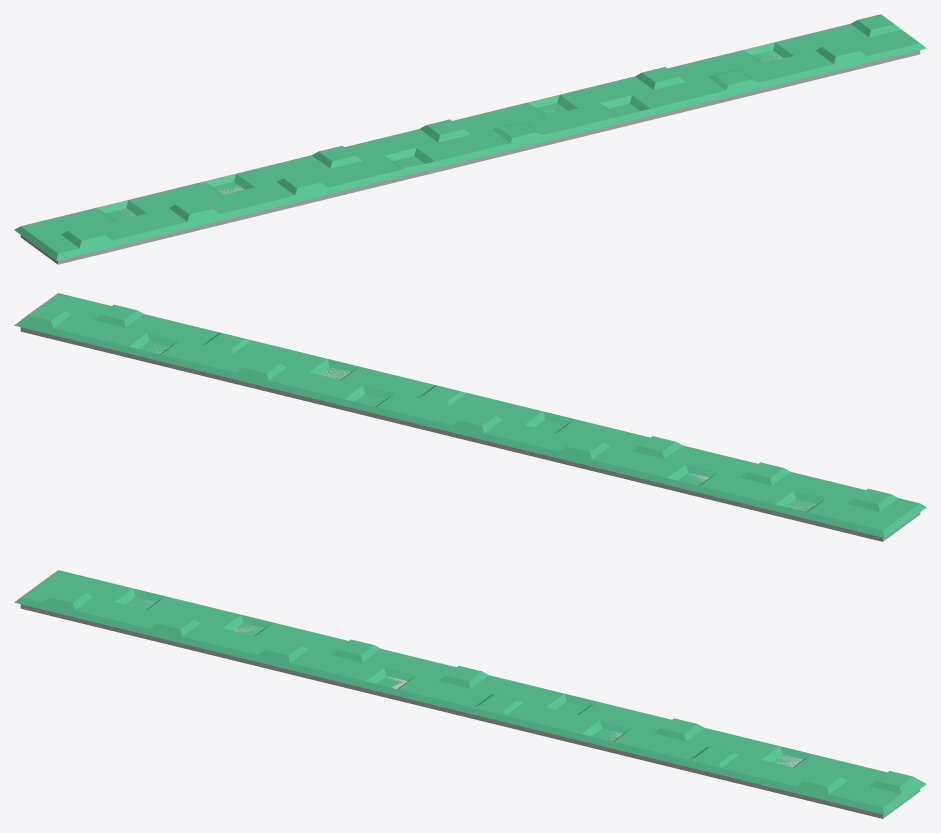
File: gm_suspension_03.dae
3 views of the same model, one above another, from view 1: azimuth 30°, elevation 25°; view 2: azimuth 150°, elevation 25°; view 3: azimuth 330°, elevation 25° (orthographic).
Parts seen in each view (by area): view 1: Colmesh-1, ind_bld_c10; view 2: Colmesh-1, ind_bld_c10; view 3: Colmesh-1, ind_bld_c10.
Part boxes in pixels (box(x1,y1,x2,y2)): Colmesh-1: box(14, 14, 926, 260); ind_bld_c10: box(20, 50, 920, 264); Colmesh-1: box(14, 293, 926, 537); ind_bld_c10: box(20, 327, 920, 541); Colmesh-1: box(14, 570, 926, 814); ind_bld_c10: box(20, 598, 920, 818).
Bounding box in the file's own units: 40.4 × 3.4 × 0.7.
